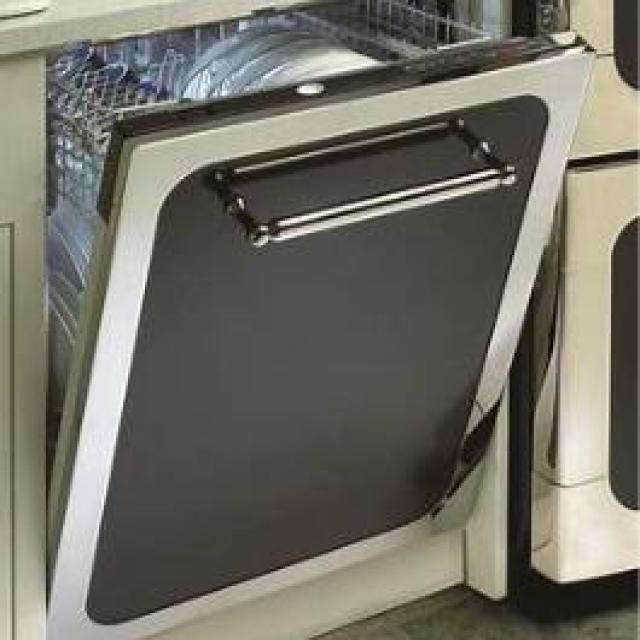dishwasher: (41, 0, 587, 630)
